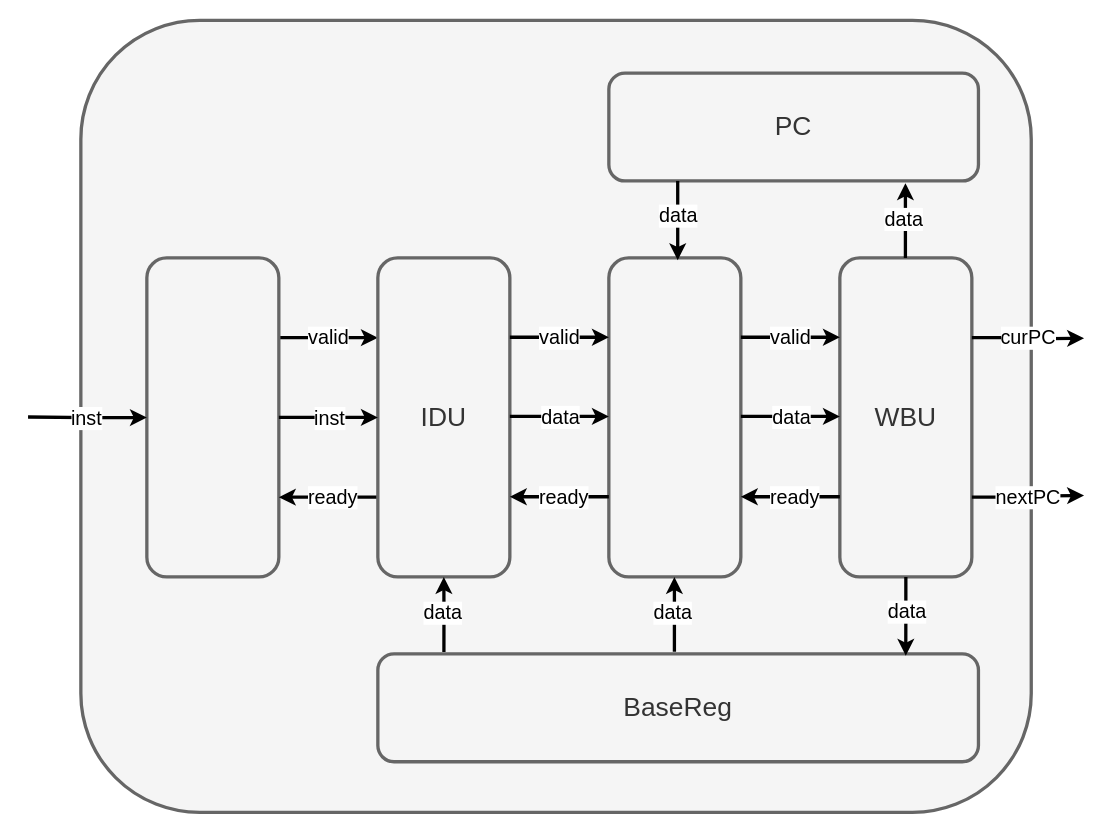
This 1113x833 diagram has some shape labels left out. Here are the shapes that lost their labels. From the top down, the centre of each, then its label:
the point at 212,417: IFU
the point at 674,417: EXU
